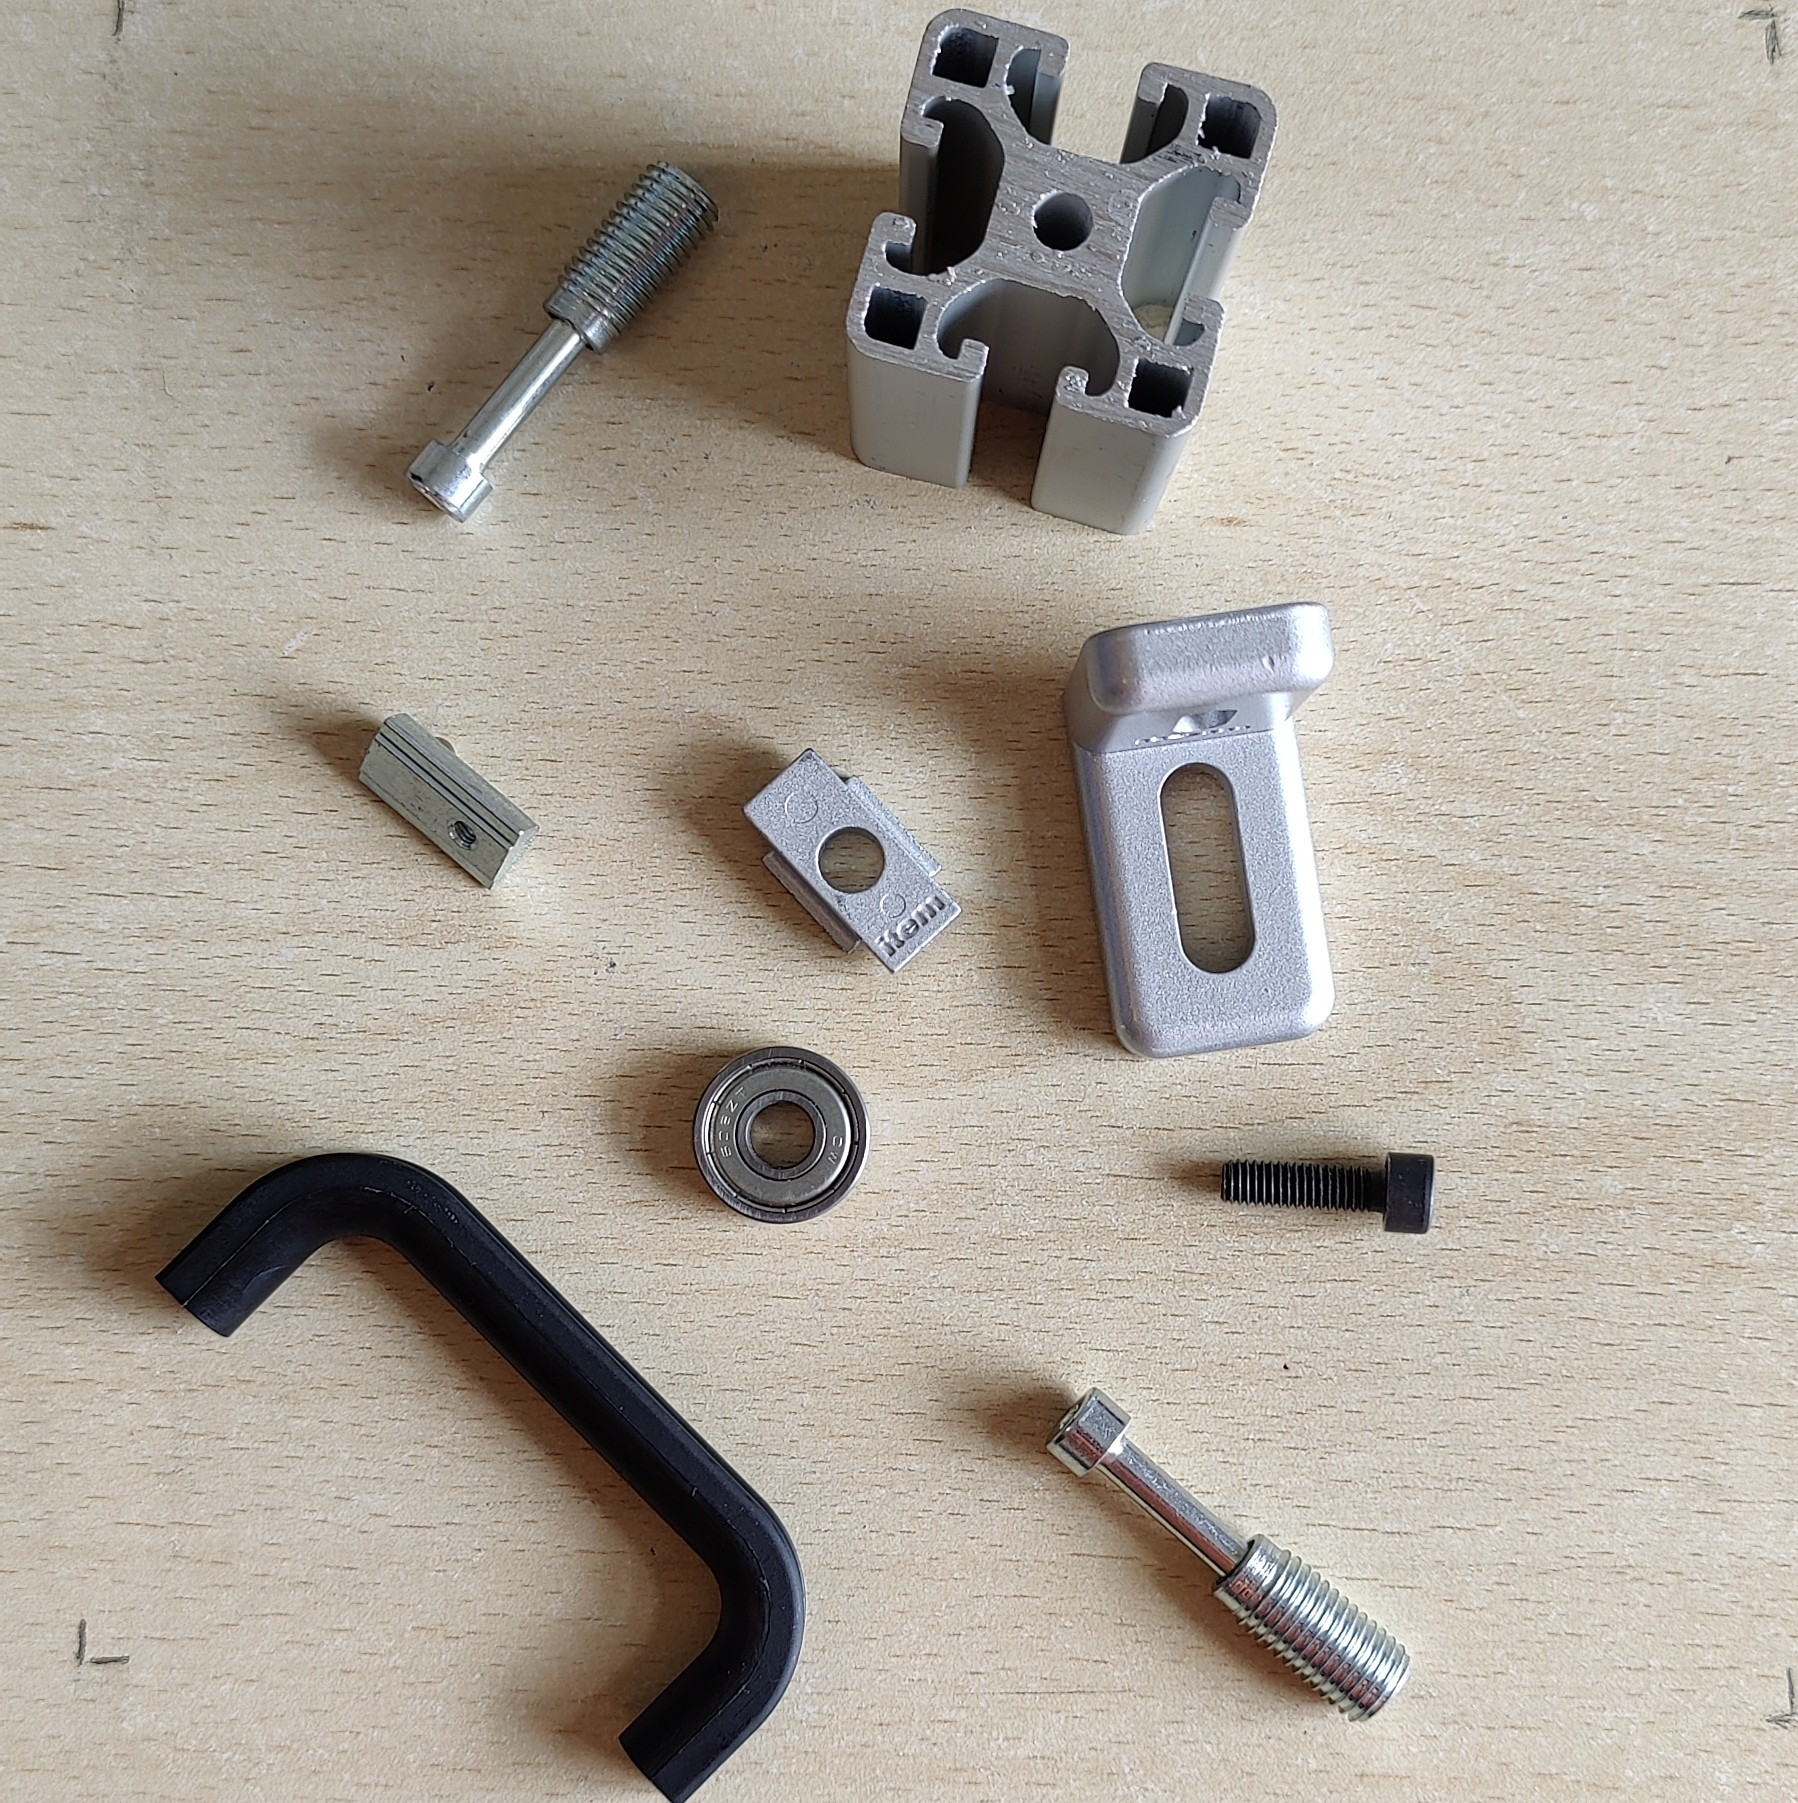Aluminium Extension: (841, 5, 1279, 538)
Ball Bearing: (688, 1044, 873, 1225)
Multiwinkel: (1059, 599, 1340, 1062)
Pull Handle: (155, 1149, 808, 1803)
Shoulder Socket Head Cap Screw: (1041, 1386, 1414, 1727), (403, 160, 723, 525)
Socket Head Cap Screw: (1215, 1148, 1441, 1237)
T Nut Square: (739, 748, 965, 980)
T Spring Nut: (356, 711, 542, 892)
